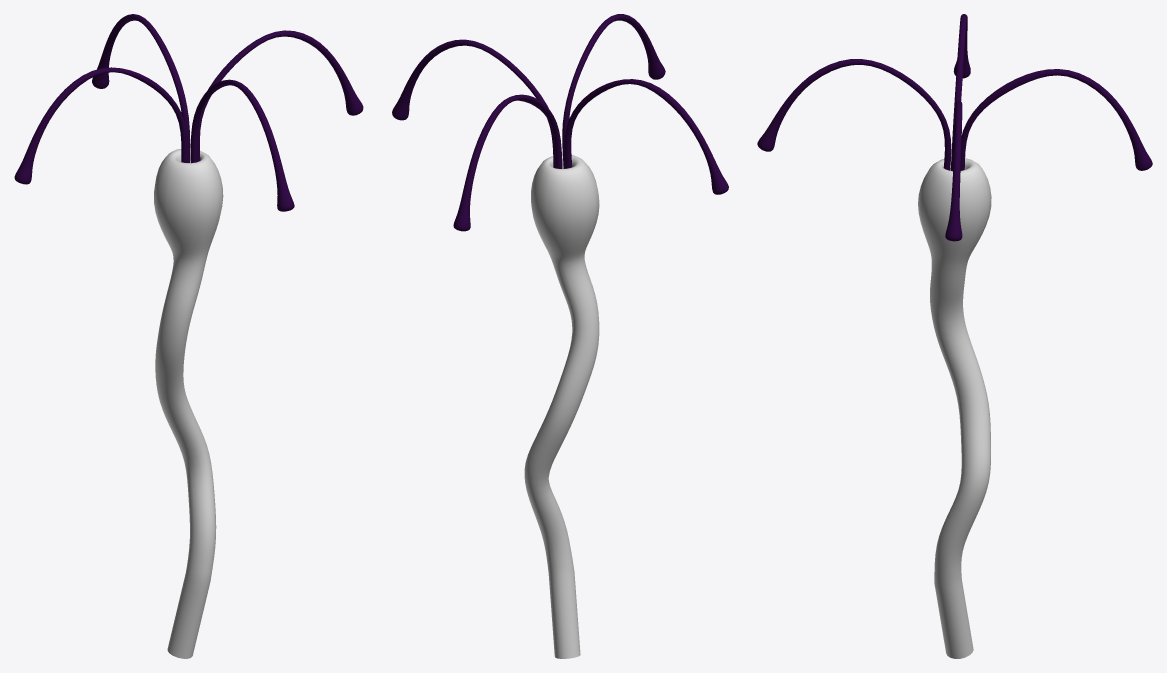
The model's file is PunkleBerryPlant3.fbx.
3 renders of one model, left to right at view 1: azimuth 30°, elevation 25°; view 2: azimuth 150°, elevation 25°; view 3: azimuth 270°, elevation 25°, orthographic.
Parts seen in each view (by area): view 1: Leaf.001; view 2: Leaf.001; view 3: Leaf.001.
Part boxes in pixels (left/top/right/bottom): Leaf.001: left=14, top=14, right=363, bottom=658; Leaf.001: left=392, top=14, right=728, bottom=658; Leaf.001: left=757, top=14, right=1152, bottom=658.
Bounding box in the file's own units: 2.73 × 4.61 × 2.75.
